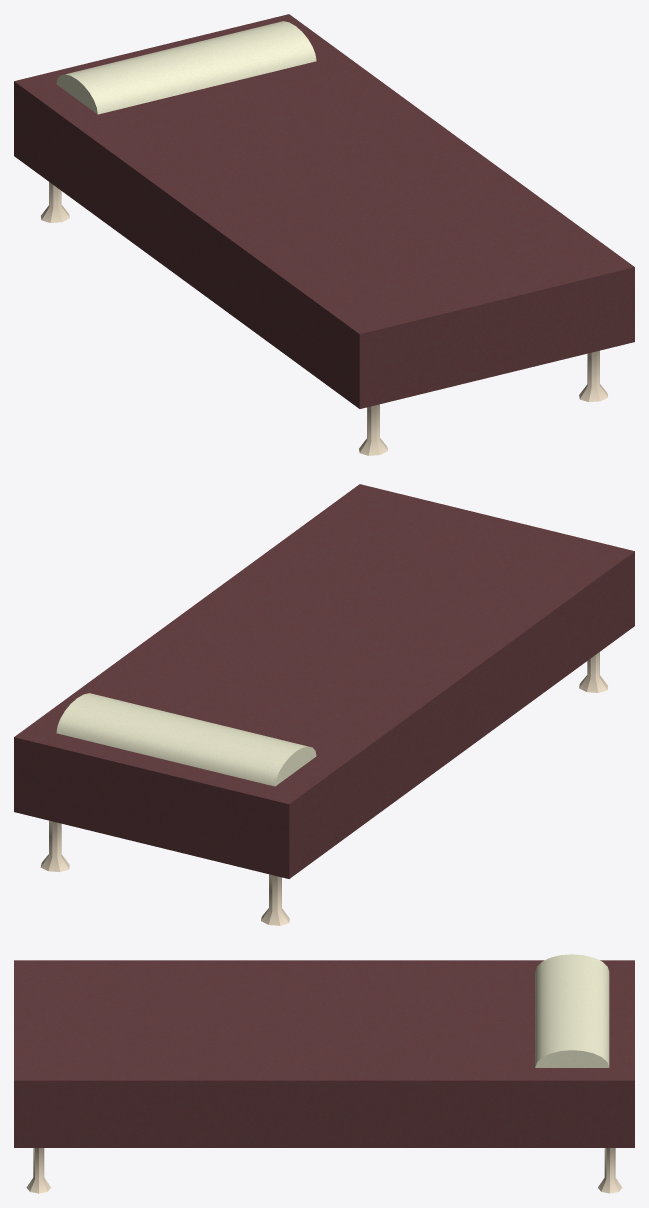
File: PR_SingleBed.fbx
3 views of the same model, one above another, from view 1: azimuth 30°, elevation 25°; view 2: azimuth 150°, elevation 25°; view 3: azimuth 270°, elevation 25° (orthographic). The views are drawn at different scales.
Visible parts, largest first — view 1: Bed; view 2: Bed; view 3: Bed.
Boxes of the visible parts, x1,y1,x2,y2 form: Bed: (14, 14, 634, 455); Bed: (14, 484, 634, 925); Bed: (14, 954, 634, 1193).
Bounding box in the file's own units: 100 × 53.05 × 218.
